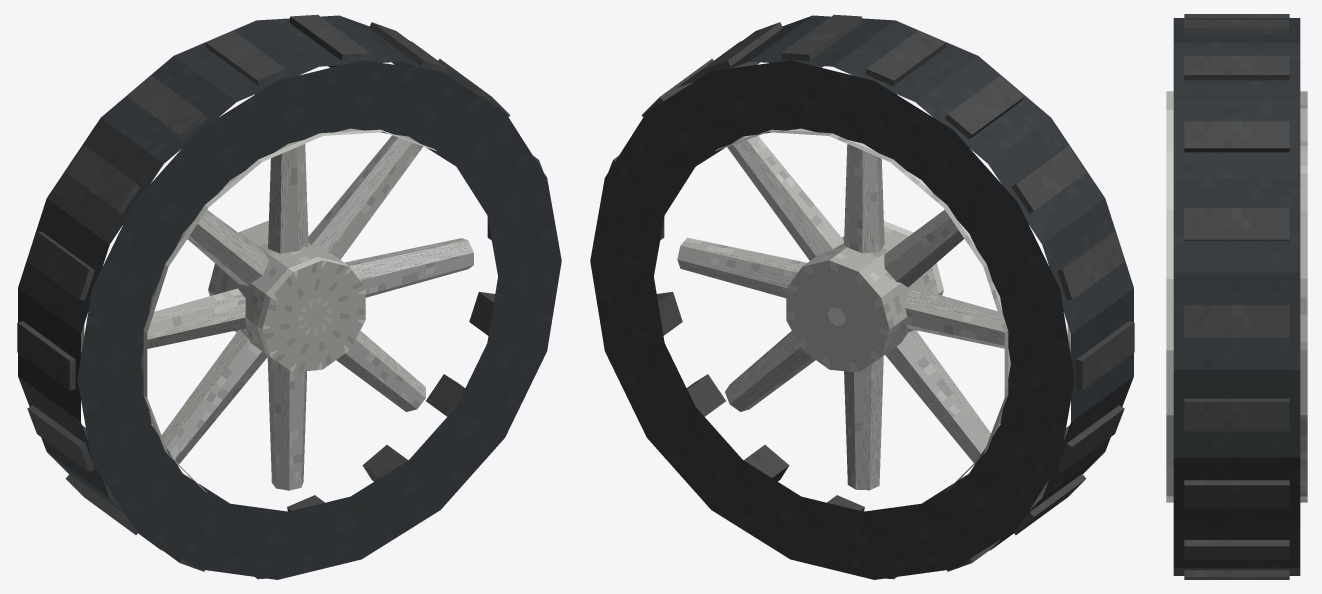
File: wheel_motorbike.glb
3 renders of one model, left to right at view 1: azimuth 30°, elevation 25°; view 2: azimuth 150°, elevation 25°; view 3: azimuth 270°, elevation 25°, orthographic.
Visible parts, largest first — view 1: block_tire sidewall (×18), block_spoke (×8), block_outer tire, block_raised tread (×12), block_hub, block_rim wall; view 2: block_tire sidewall (×18), block_spoke (×8), block_outer tire, block_raised tread (×12), block_hub, block_rim wall; view 3: block_outer tire, block_raised tread (×10), block_rim wall (×2).
Part boxes in pixels (x1,y1,x2,y2): block_tire sidewall (×18): (77, 60, 561, 579); block_spoke (×8): (147, 135, 473, 490); block_outer tire: (18, 15, 474, 550); block_raised tread (×12): (17, 14, 495, 534); block_hub: (208, 220, 365, 372); block_rim wall: (141, 128, 436, 492); block_tire sidewall (×18): (590, 60, 1074, 579); block_spoke (×8): (677, 135, 1004, 490); block_outer tire: (677, 15, 1133, 550); block_raised tread (×12): (656, 14, 1134, 534); block_hub: (786, 221, 943, 372); block_rim wall: (715, 128, 1010, 492); block_outer tire: (1173, 18, 1300, 575); block_raised tread (×10): (1184, 14, 1289, 579); block_rim wall (×2): (1166, 91, 1307, 502).
Bounding box in the file's own units: 0.407 × 0.4049 × 0.1015.
1 material, 1 textured.
